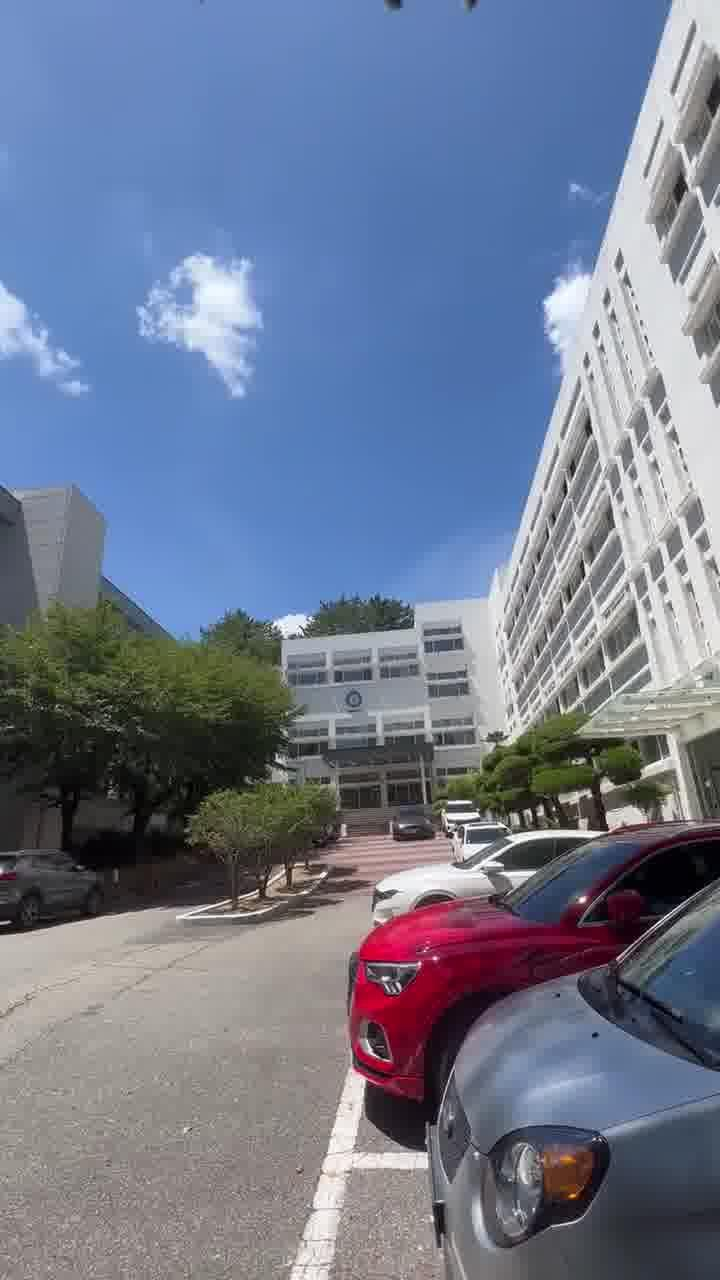building: (256, 258, 720, 768)
